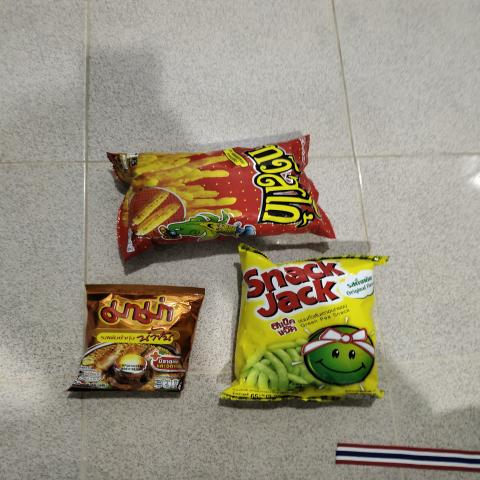mama: (93, 290, 177, 386)
snack_jack: (246, 262, 371, 384)
twisco: (129, 152, 305, 228)
